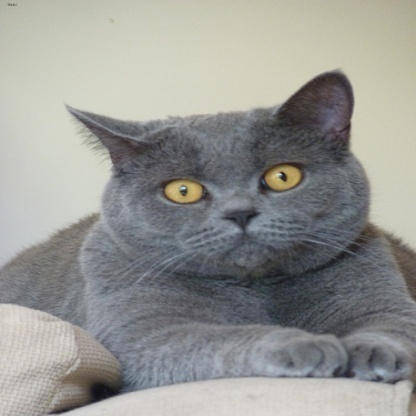british_shorthair: (1, 70, 416, 384)
